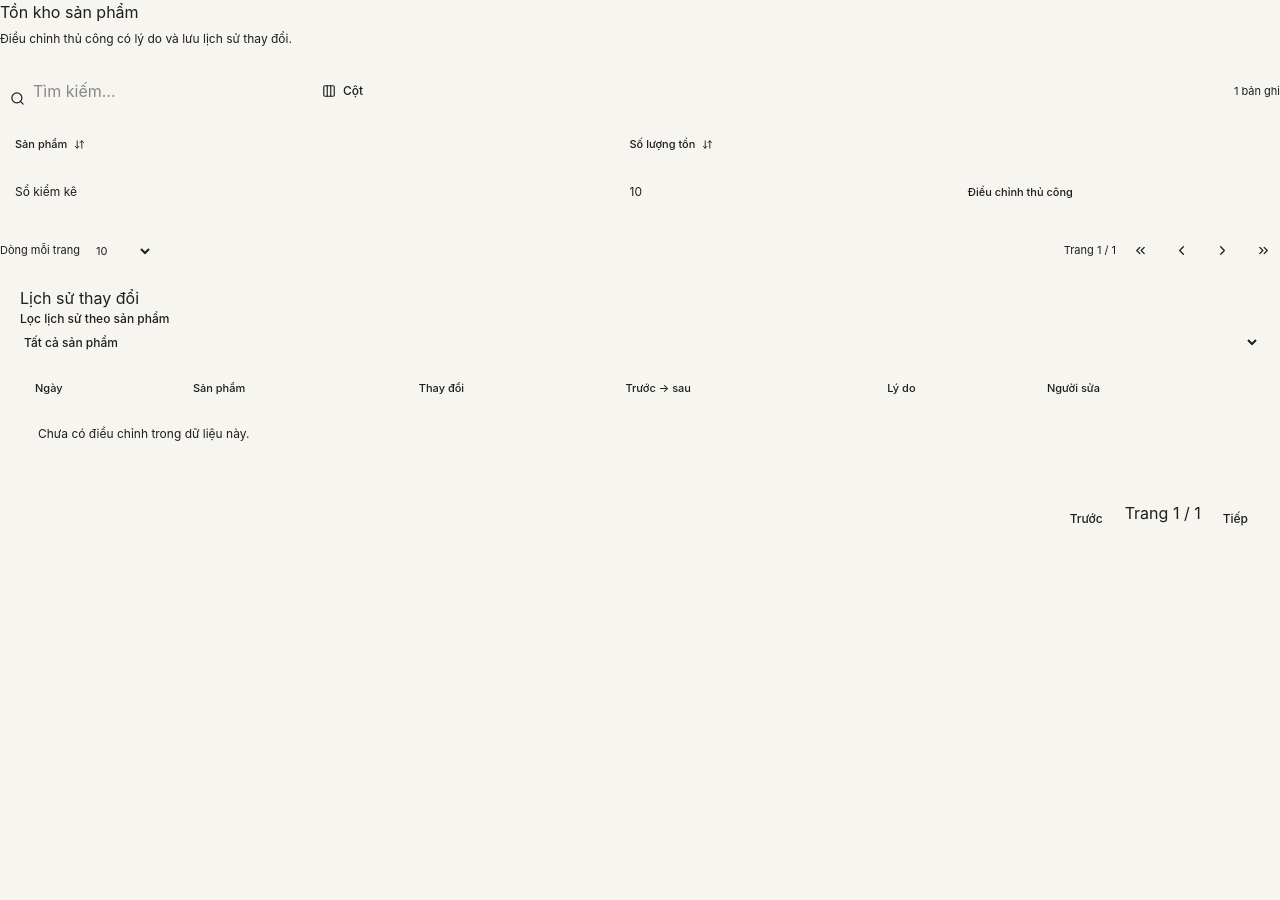
Scenario: keeps the dialog open and shows the server 400 message
This screenshot has width=1280, height=900.
Click the button "Điều chỉnh thủ công": (1020, 192) [959,178,1082,206]
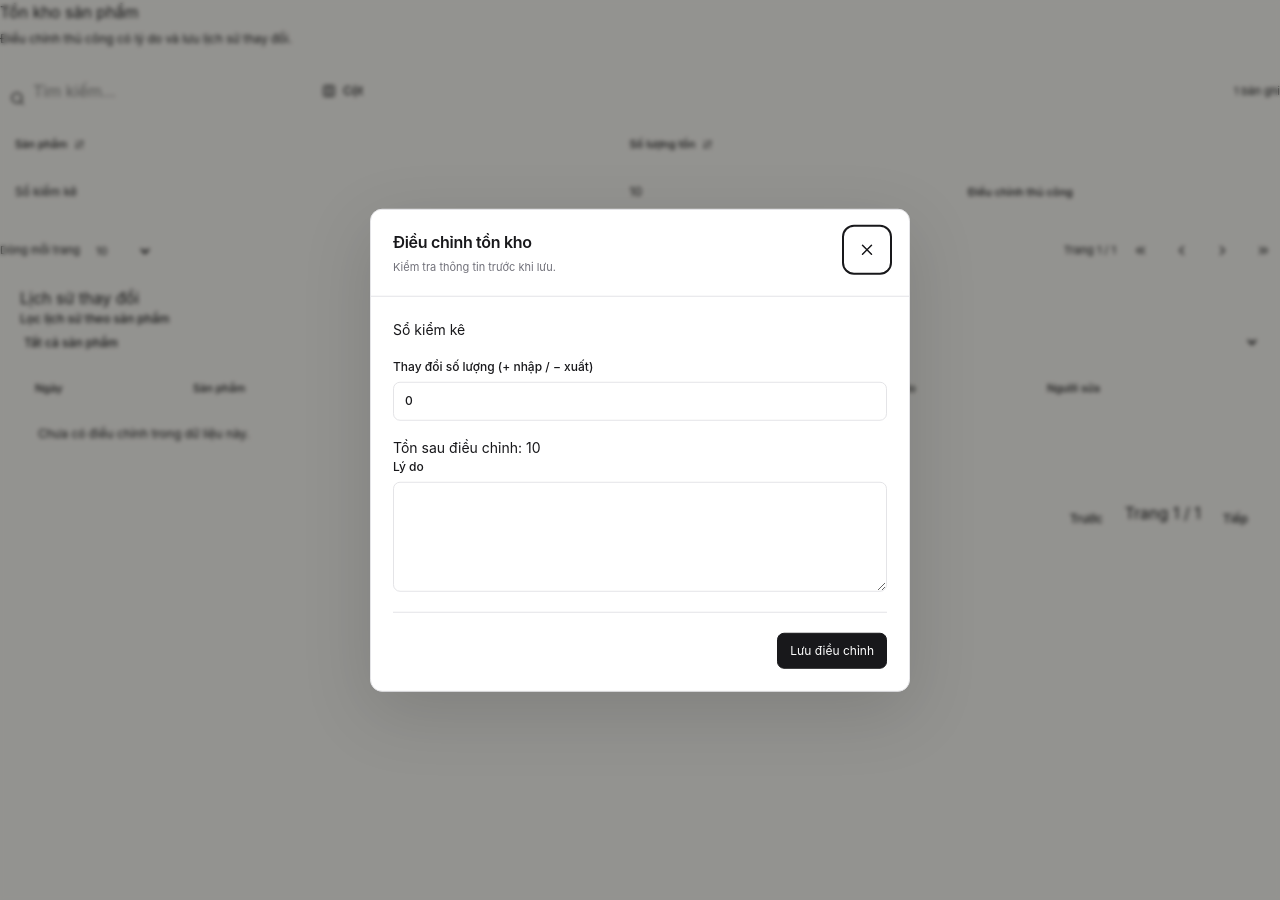
Replace the text in the number field with "2": (640, 401) [393,381,887,420]
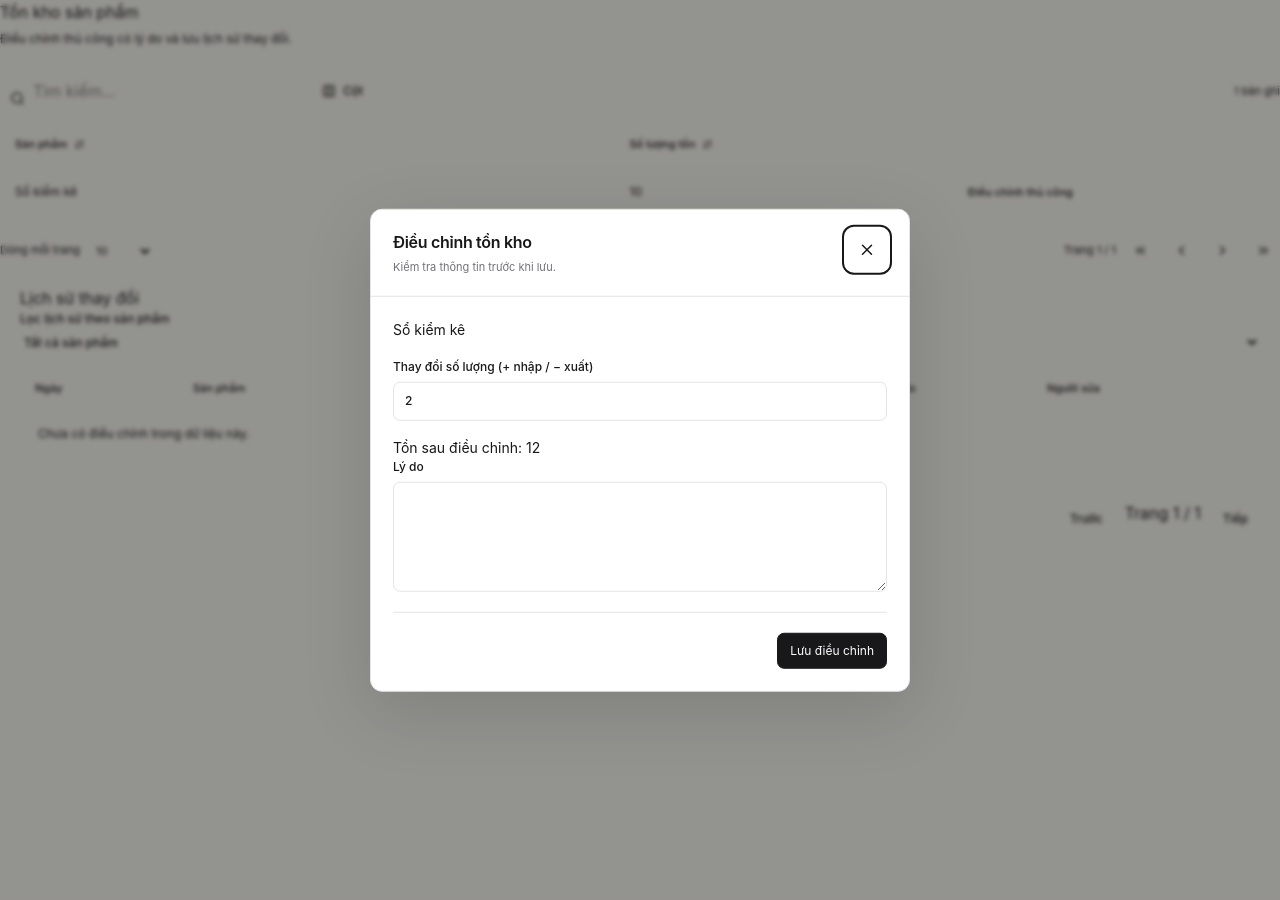
In the text box: (640, 536) [393,481,887,591], type "Kiểm đếm"
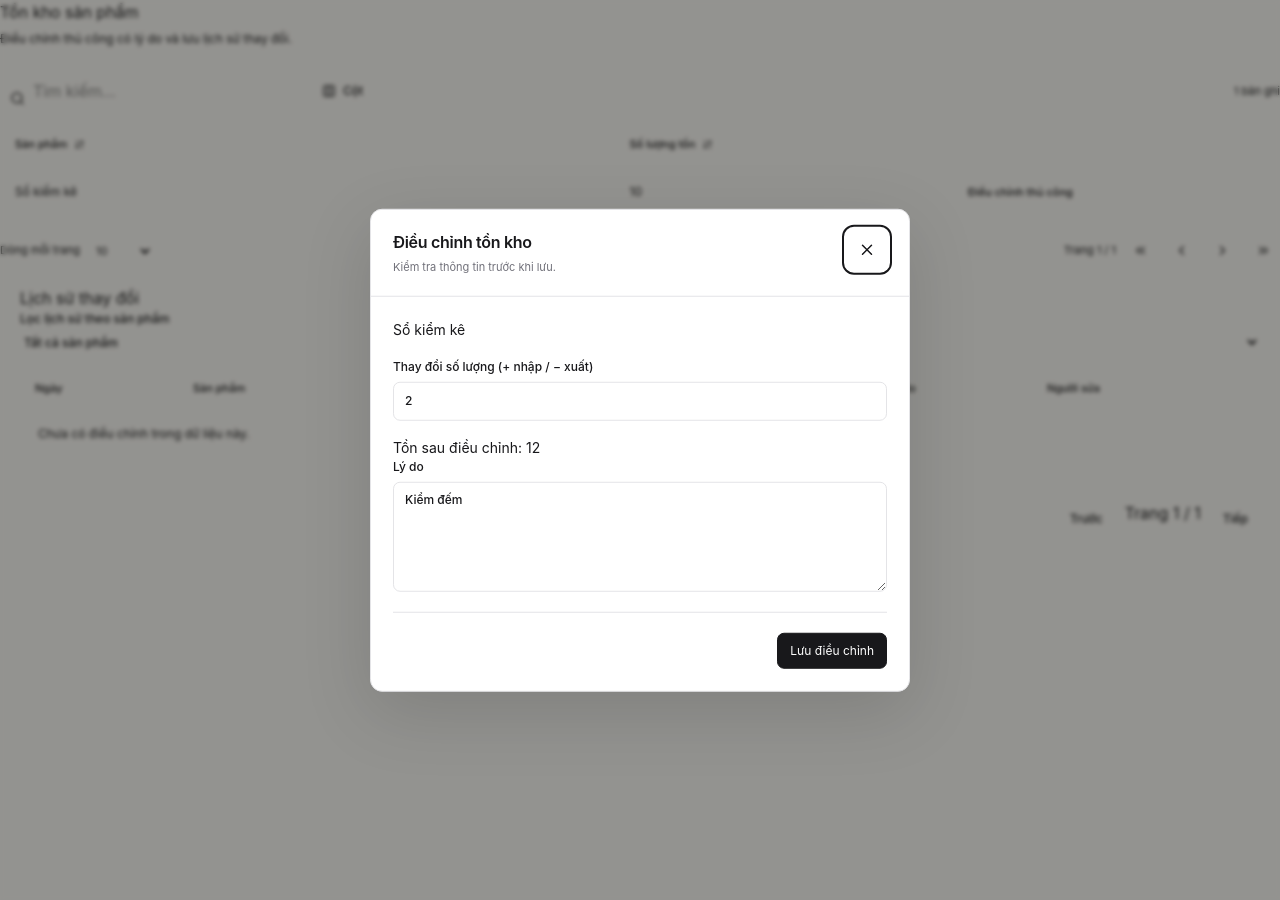
Click the button "Lưu điều chỉnh": (832, 650) [777,632,887,668]
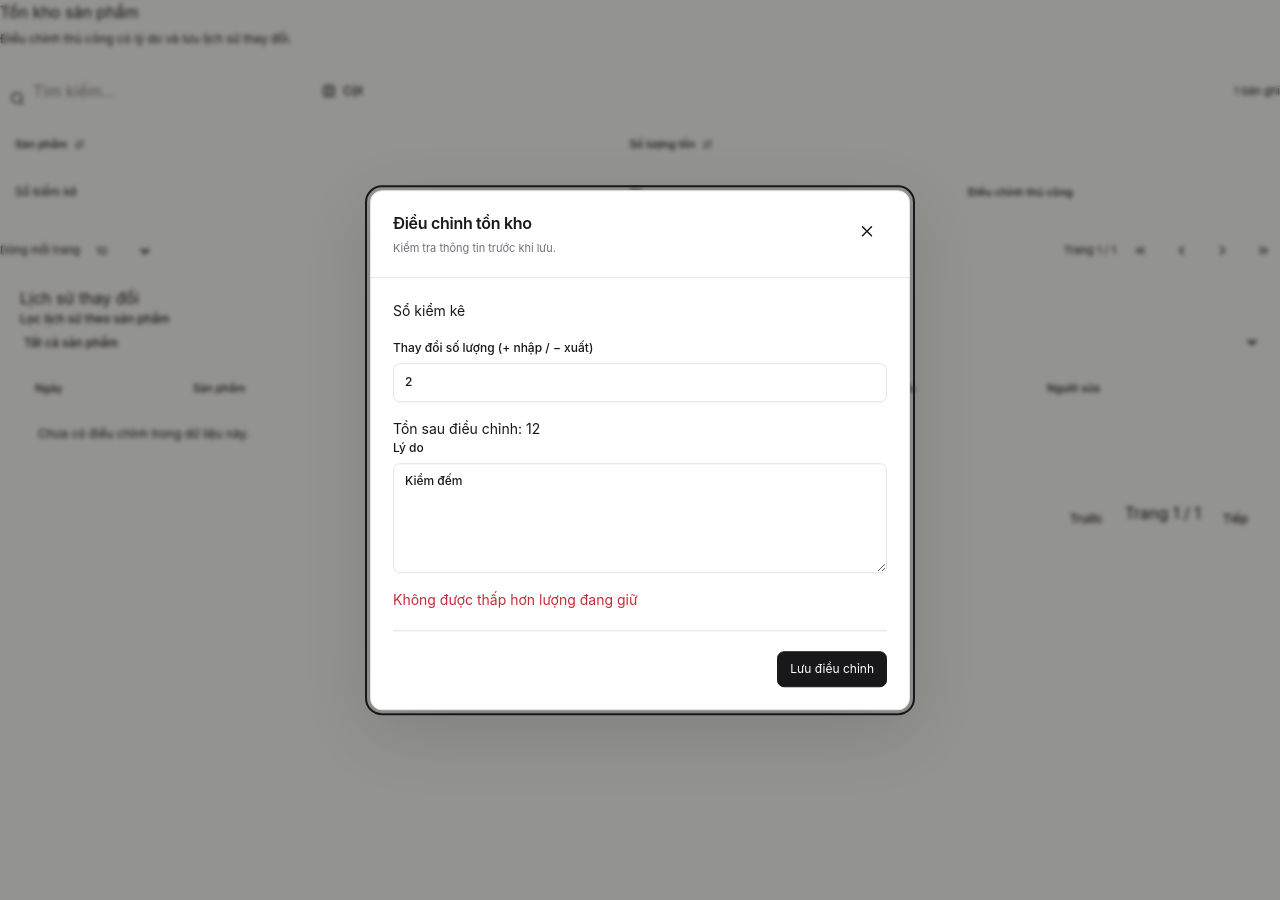
Now the message reads "Không được thấp hơn lượng đang giữ", box [393,591,638,608]
